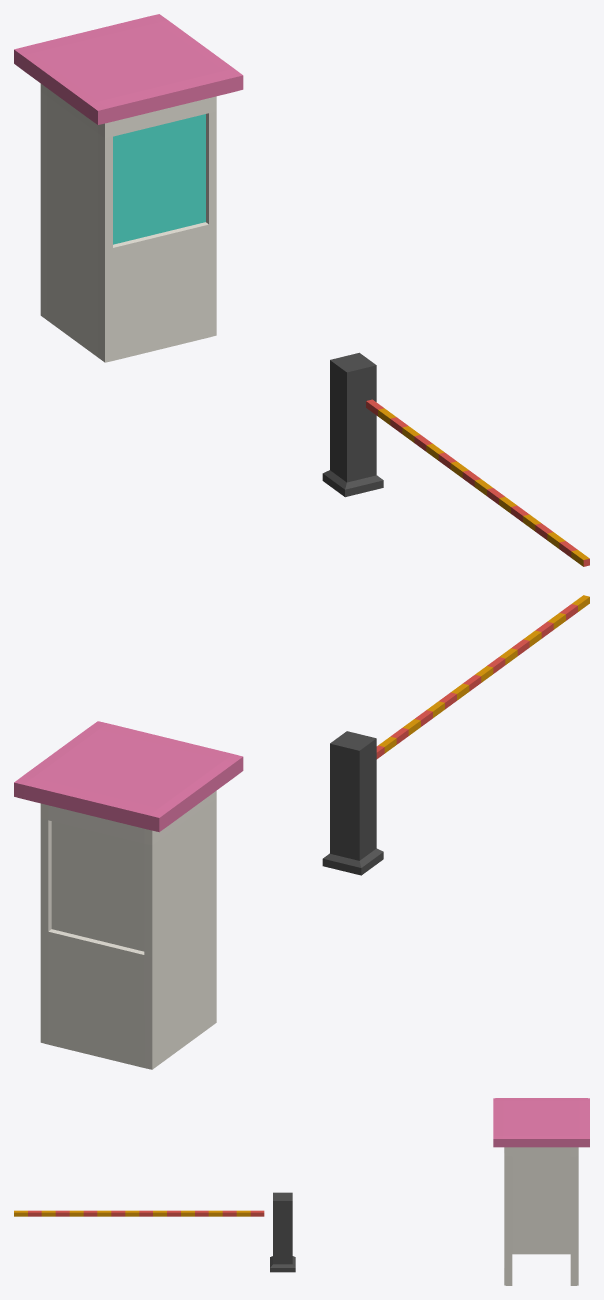
Rendered from Police House.fbx.
3 views of the same model, one above another, from view 1: azimuth 30°, elevation 25°; view 2: azimuth 150°, elevation 25°; view 3: azimuth 270°, elevation 25° (orthographic). The views are drawn at different scales.
Parts seen in each view (by area): view 1: Cube.001, Cube.010, Cube.012; view 2: Cube.001, Cube.010, Cube.012; view 3: Cube.001, Cube.012, Cube.010.
Part boxes in pixels (x1=…): Cube.001: x1=14, y1=14, x2=243, y2=362; Cube.010: x1=322, y1=352, x2=383, y2=497; Cube.012: x1=366, y1=399, x2=589, y2=566; Cube.001: x1=14, y1=721, x2=243, y2=1069; Cube.010: x1=322, y1=731, x2=383, y2=875; Cube.012: x1=376, y1=595, x2=589, y2=759; Cube.001: x1=493, y1=1098, x2=589, y2=1285; Cube.012: x1=14, y1=1210, x2=264, y2=1216; Cube.010: x1=270, y1=1192, x2=295, y2=1272.
Bounding box in the file's own units: 169 × 294 × 1008.
